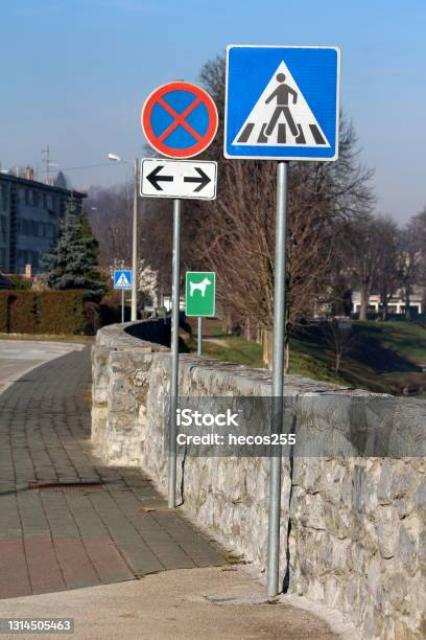crosswalk-sign: (224, 44, 342, 163)
